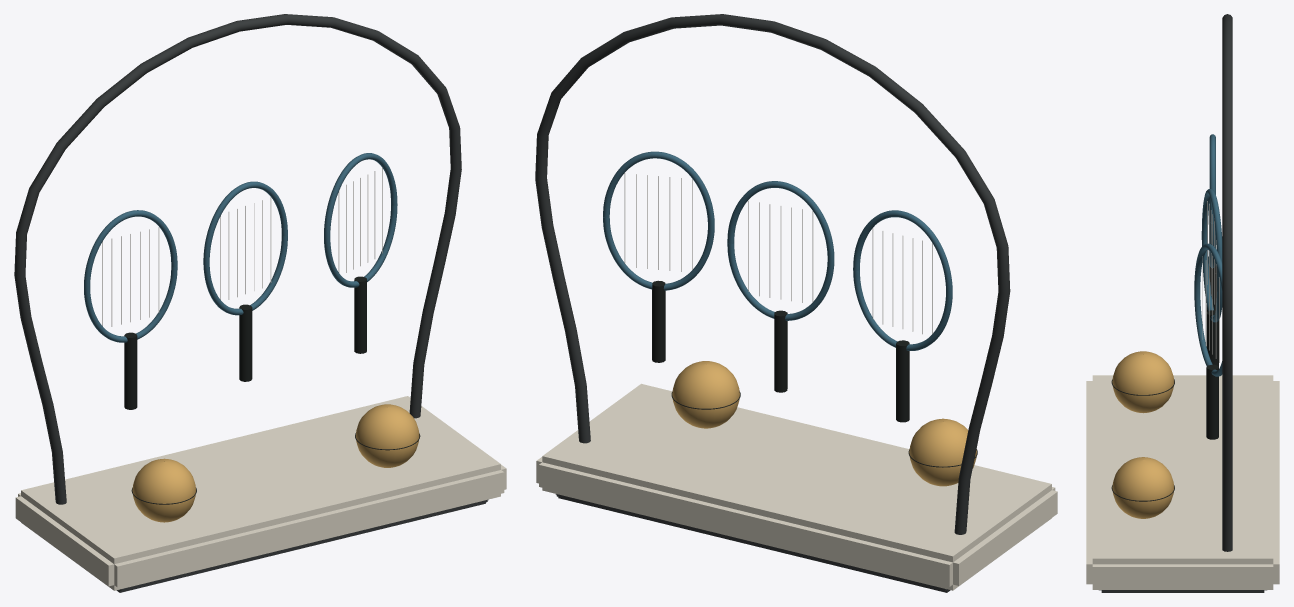
The model's file is collection_v29_sports_1.glb.
3 views of the same model, side by side, from view 1: azimuth 30°, elevation 25°; view 2: azimuth 150°, elevation 25°; view 3: azimuth 270°, elevation 25° (orthographic). The views are drawn at different scales.
Visible parts, largest first — view 1: collection_v29_sports_1_V29_ivory_lacquer, collection_v29_sports_1_Anodised_graphite, collection_v29_sports_1_Sport_tan.002, collection_v29_sports_1_Sport_tan.003, collection_v29_sports_1_Technical_blue.003, collection_v29_sports_1_Technical_blue.004, collection_v29_sports_1_Technical_blue.005, collection_v29_sports_1_Grip_rubber.014, collection_v29_sports_1_Grip_rubber.015, collection_v29_sports_1_Grip_rubber.016, collection_v29_sports_1_Warm_white_coating.008, collection_v29_sports_1_Warm_white_coating.006 (+1 smaller); view 2: collection_v29_sports_1_V29_ivory_lacquer, collection_v29_sports_1_Anodised_graphite, collection_v29_sports_1_Sport_tan.003, collection_v29_sports_1_Sport_tan.002, collection_v29_sports_1_Technical_blue.005, collection_v29_sports_1_Technical_blue.004, collection_v29_sports_1_Technical_blue.003, collection_v29_sports_1_Grip_rubber.016, collection_v29_sports_1_Grip_rubber.014, collection_v29_sports_1_Grip_rubber.015, collection_v29_sports_1_Warm_white_coating.006, collection_v29_sports_1_Warm_white_coating.007 (+1 smaller); view 3: collection_v29_sports_1_V29_ivory_lacquer, collection_v29_sports_1_Anodised_graphite, collection_v29_sports_1_Sport_tan.002, collection_v29_sports_1_Sport_tan.003, collection_v29_sports_1_Technical_blue.004, collection_v29_sports_1_Technical_blue.005, collection_v29_sports_1_Grip_rubber.016, collection_v29_sports_1_Technical_blue.003, collection_v29_sports_1_Warm_white_coating.008, collection_v29_sports_1_Grip_rubber.015, collection_v29_sports_1_Warm_white_coating.007, collection_v29_sports_1_Grip_rubber.014.
Part boxes in pixels (bbox=[...]): collection_v29_sports_1_V29_ivory_lacquer: bbox=[15, 396, 506, 590]; collection_v29_sports_1_Anodised_graphite: bbox=[14, 14, 488, 592]; collection_v29_sports_1_Sport_tan.002: bbox=[132, 458, 196, 522]; collection_v29_sports_1_Sport_tan.003: bbox=[355, 404, 419, 467]; collection_v29_sports_1_Technical_blue.003: bbox=[84, 210, 177, 342]; collection_v29_sports_1_Technical_blue.004: bbox=[203, 181, 287, 315]; collection_v29_sports_1_Technical_blue.005: bbox=[324, 153, 397, 287]; collection_v29_sports_1_Grip_rubber.014: bbox=[124, 332, 137, 409]; collection_v29_sports_1_Grip_rubber.015: bbox=[239, 304, 252, 381]; collection_v29_sports_1_Grip_rubber.016: bbox=[354, 276, 366, 353]; collection_v29_sports_1_Warm_white_coating.008: bbox=[338, 167, 382, 272]; collection_v29_sports_1_Warm_white_coating.006: bbox=[102, 227, 159, 326]; collection_v29_sports_1_V29_ivory_lacquer: bbox=[536, 383, 1057, 590]; collection_v29_sports_1_Anodised_graphite: bbox=[535, 14, 1010, 592]; collection_v29_sports_1_Sport_tan.003: bbox=[672, 361, 739, 428]; collection_v29_sports_1_Sport_tan.002: bbox=[909, 418, 976, 486]; collection_v29_sports_1_Technical_blue.005: bbox=[603, 151, 714, 290]; collection_v29_sports_1_Technical_blue.004: bbox=[727, 181, 834, 320]; collection_v29_sports_1_Technical_blue.003: bbox=[853, 210, 952, 350]; collection_v29_sports_1_Grip_rubber.016: bbox=[652, 280, 665, 362]; collection_v29_sports_1_Grip_rubber.014: bbox=[896, 340, 909, 422]; collection_v29_sports_1_Grip_rubber.015: bbox=[774, 310, 787, 392]; collection_v29_sports_1_Warm_white_coating.006: bbox=[872, 228, 932, 334]; collection_v29_sports_1_Warm_white_coating.007: bbox=[748, 200, 813, 302]; collection_v29_sports_1_V29_ivory_lacquer: bbox=[1086, 375, 1279, 589]; collection_v29_sports_1_Anodised_graphite: bbox=[1099, 14, 1266, 592]; collection_v29_sports_1_Sport_tan.002: bbox=[1112, 351, 1174, 413]; collection_v29_sports_1_Sport_tan.003: bbox=[1112, 457, 1174, 518]; collection_v29_sports_1_Technical_blue.004: bbox=[1201, 189, 1222, 322]; collection_v29_sports_1_Technical_blue.005: bbox=[1194, 243, 1222, 376]; collection_v29_sports_1_Grip_rubber.016: bbox=[1206, 364, 1218, 439]; collection_v29_sports_1_Technical_blue.003: bbox=[1209, 134, 1215, 267]; collection_v29_sports_1_Warm_white_coating.008: bbox=[1202, 256, 1219, 362]; collection_v29_sports_1_Grip_rubber.015: bbox=[1206, 310, 1218, 366]; collection_v29_sports_1_Warm_white_coating.007: bbox=[1207, 201, 1216, 304]; collection_v29_sports_1_Grip_rubber.014: bbox=[1206, 256, 1217, 311].
Size of the model in its own units: 2.02 by 2.07 by 0.78.
